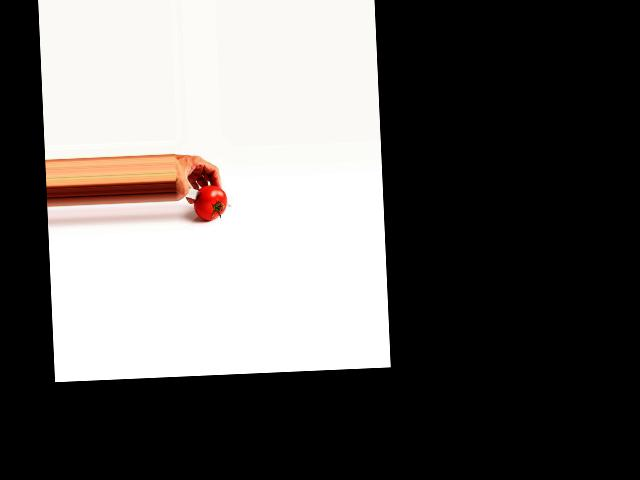tomato: (193, 184, 227, 221)
